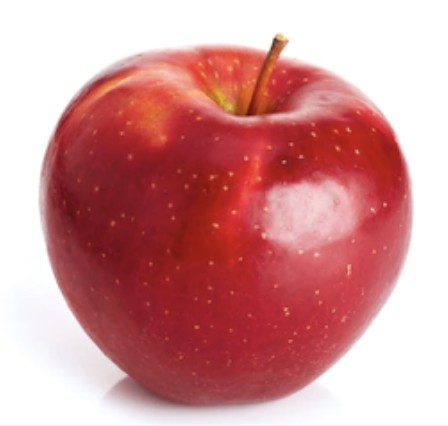fresh_apple: (37, 45, 412, 407)
